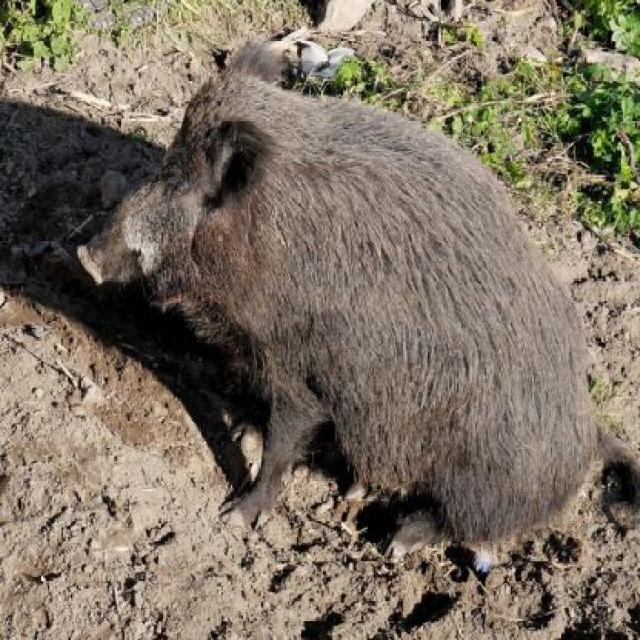wildboar: (72, 37, 640, 563)
